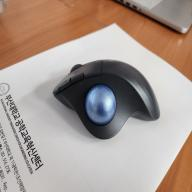mouse: (52, 50, 165, 142)
